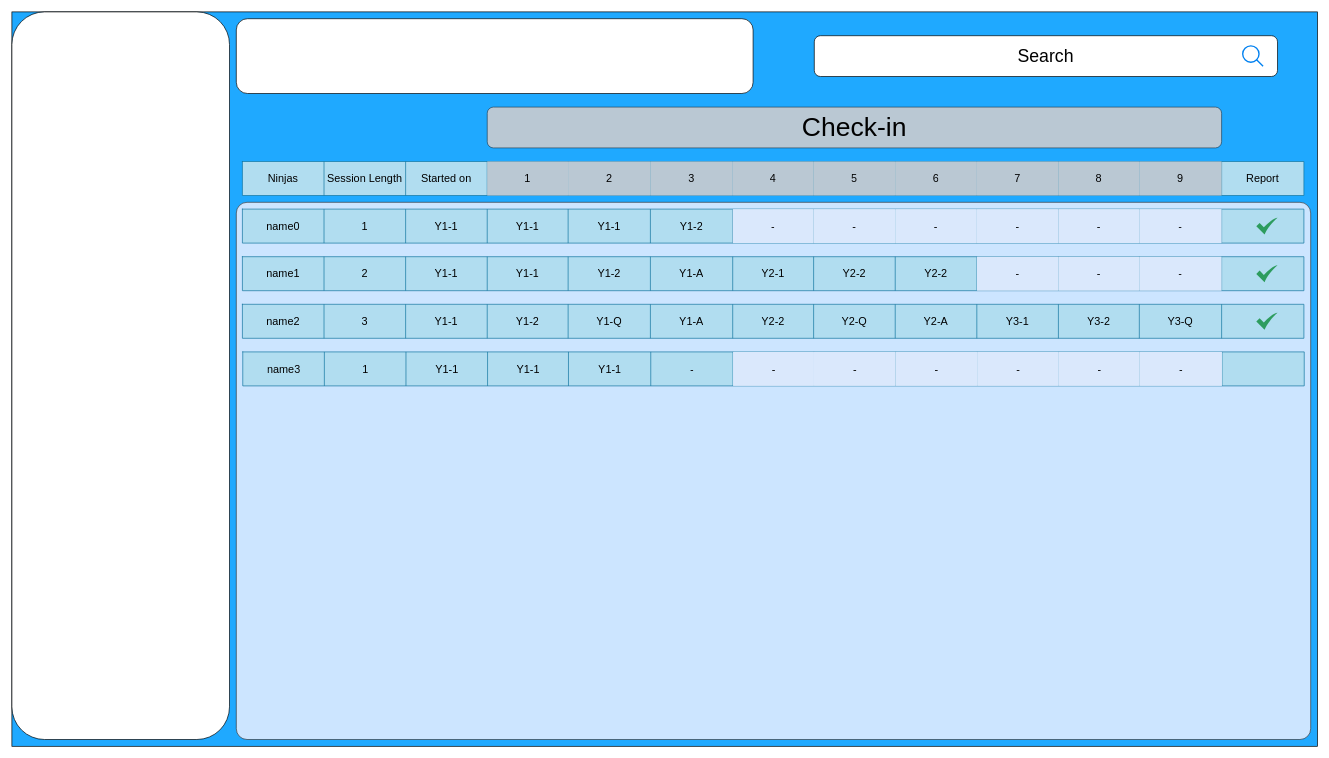
Some shapes in this 1329 by 758 pixel diagram are drawn without their labels. Each missing label, with the centre of its shape:
Menu bar: (120,375)
Ninjas in the Dojo: (494,56)
